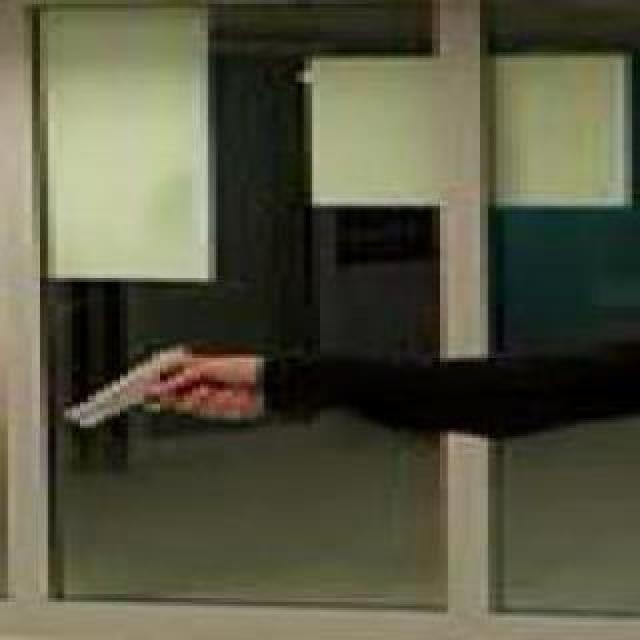Guns: (61, 329, 225, 450)
